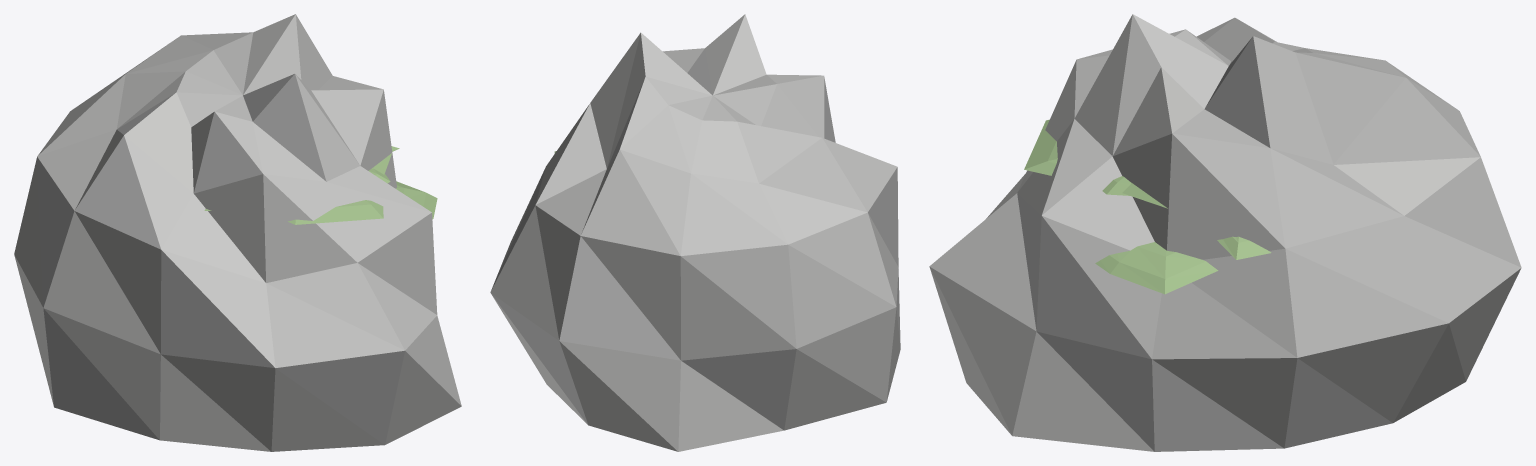
The model's file is nature_boulder_mossy.glb.
The picture shows the model from 3 angles, left to right: view 1: azimuth 30°, elevation 25°; view 2: azimuth 150°, elevation 25°; view 3: azimuth 270°, elevation 25°; orthographic projection. The views are drawn at different scales.
Parts seen in each view (by area): view 1: world; view 2: world; view 3: world.
Boxes of the visible parts, x1,y1,x2,y2 form: world: [14, 14, 461, 451]; world: [490, 14, 900, 451]; world: [929, 14, 1521, 451].
Bounding box in the file's own units: 1.64 × 1.37 × 2.
